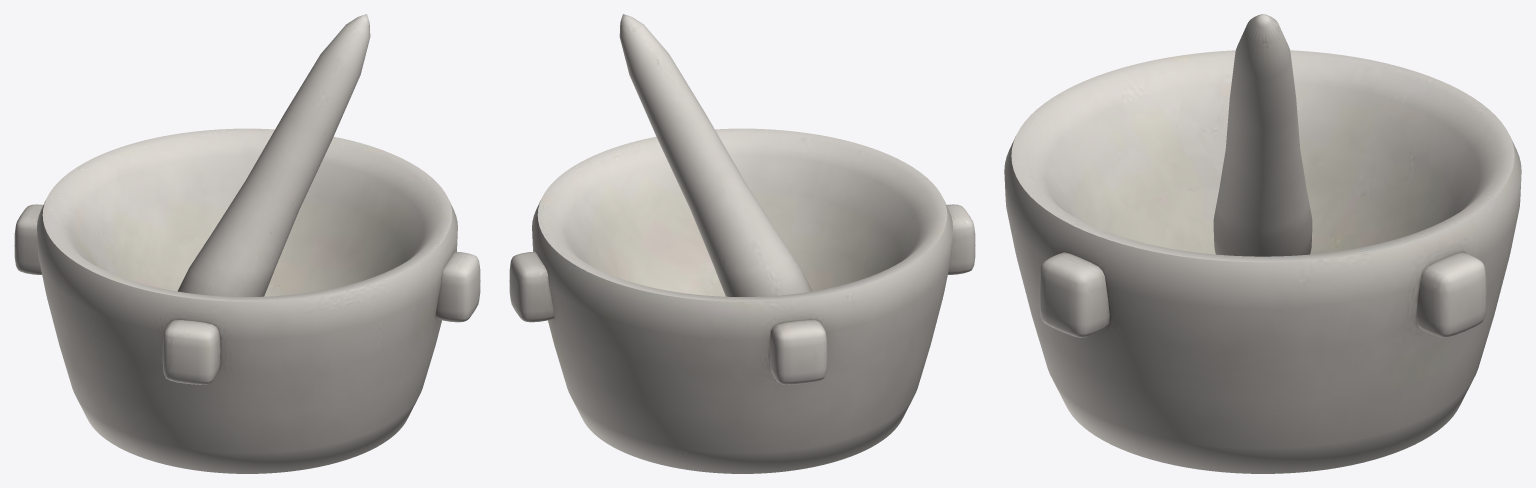
Rendered from mortar.glb.
3 renders of one model, left to right at view 1: azimuth 30°, elevation 25°; view 2: azimuth 150°, elevation 25°; view 3: azimuth 270°, elevation 25°, orthographic. The views are drawn at different scales.
Visible parts, largest first — view 1: mortar; view 2: mortar; view 3: mortar.
Part boxes in pixels (x1,y1,x2,y2): mortar: [14, 14, 480, 473]; mortar: [509, 14, 975, 473]; mortar: [1004, 14, 1521, 473].
Bounding box in the file's own units: 0.1326 × 0.1316 × 0.1326.
1 material, 1 textured.
